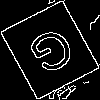G: (25, 25, 84, 85)
